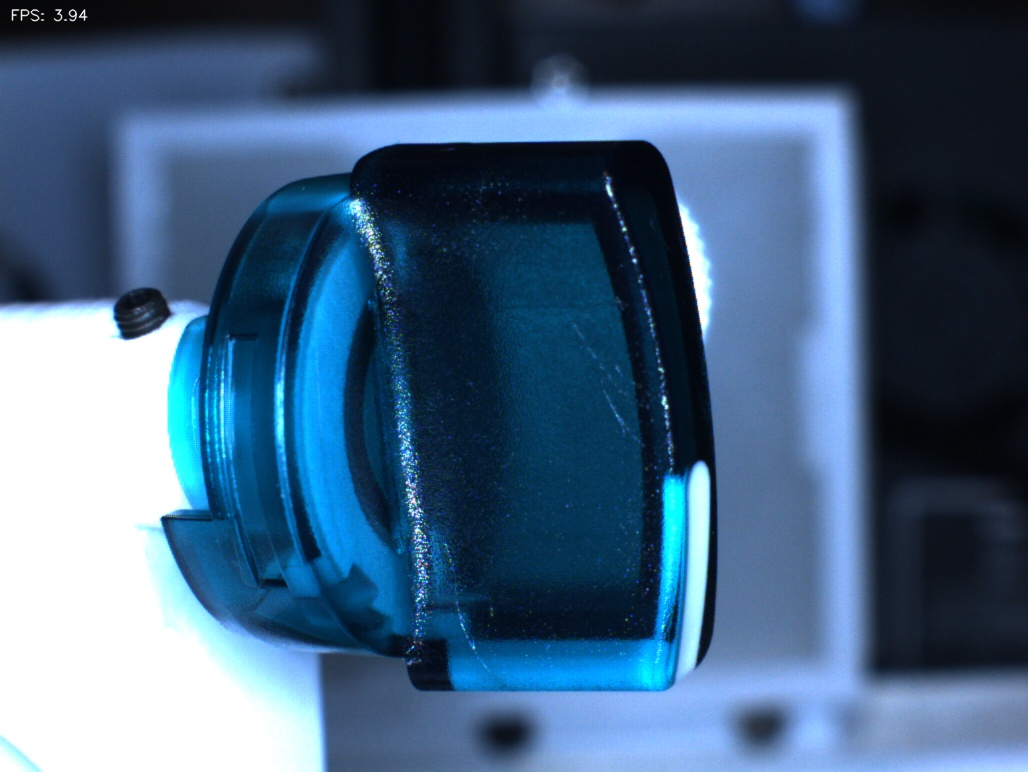Givrage: (558, 307, 666, 468)
